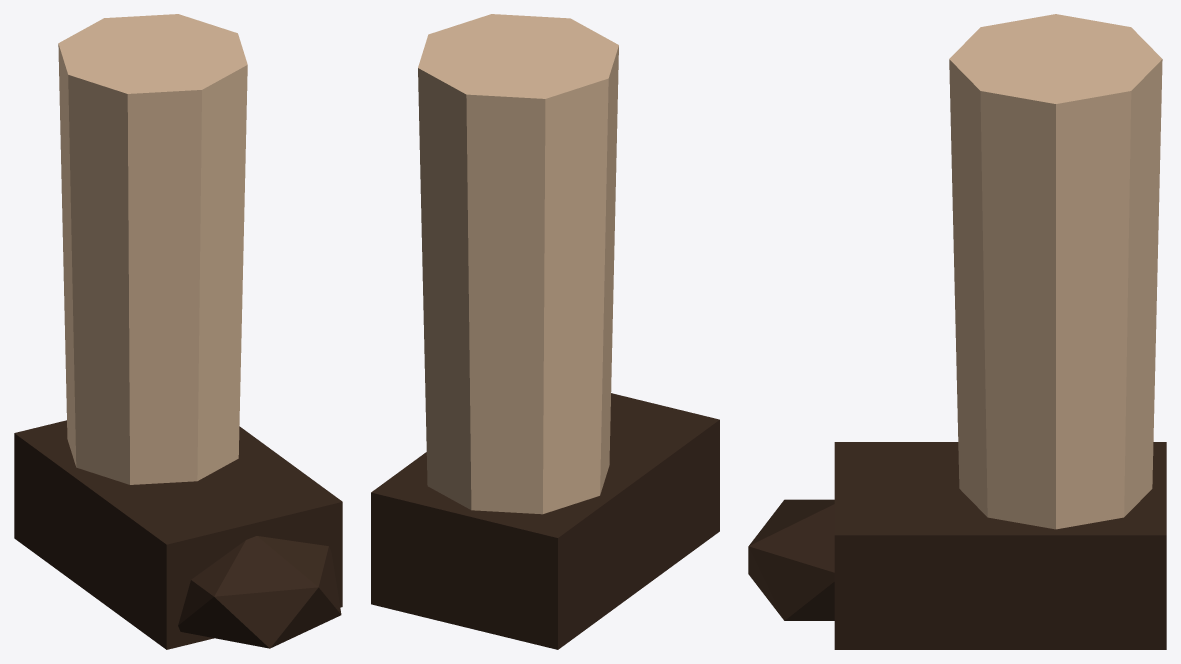
The model's file is insan_k0k_bacak.glb.
The picture shows the model from 3 angles, left to right: view 1: azimuth 30°, elevation 25°; view 2: azimuth 150°, elevation 25°; view 3: azimuth 270°, elevation 25°; orthographic projection. The views are drawn at different scales.
Parts seen in each view (by area): view 1: Cone; view 2: Cone; view 3: Cone.
Boxes of the visible parts, box(x1,y1,x2,y2) form: Cone: box(14, 14, 342, 649); Cone: box(371, 14, 719, 649); Cone: box(748, 14, 1166, 649).
Size of the model in its own units: 0.028 by 0.0784 by 0.0529.
